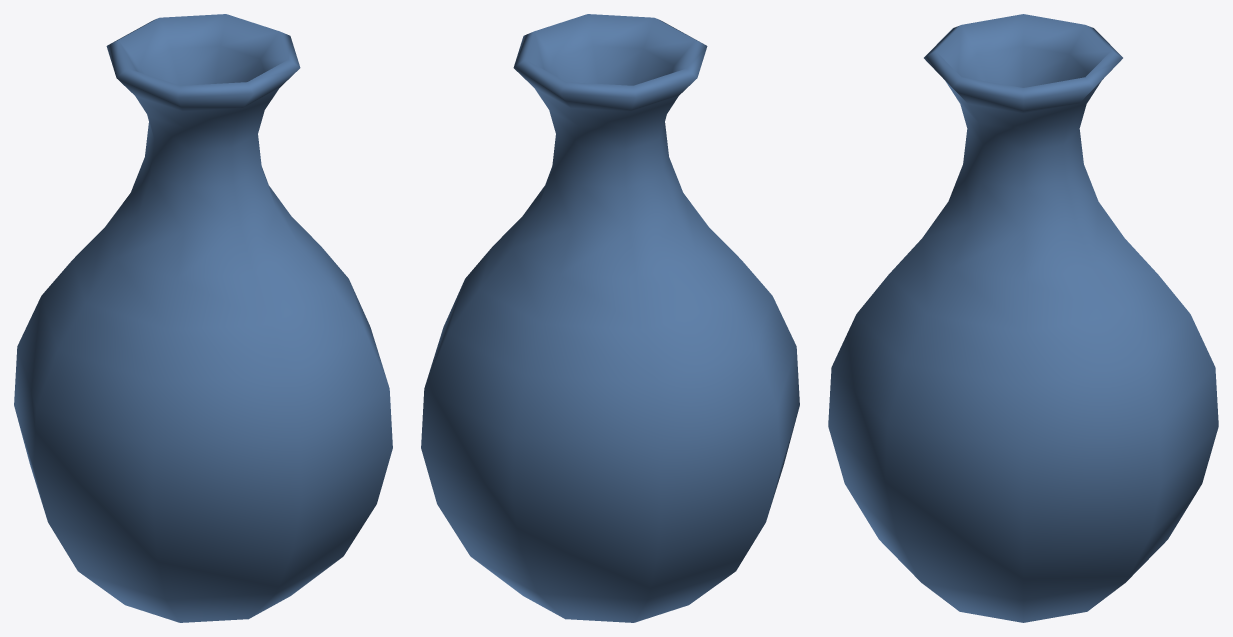
The model's file is Vase.FBX.
3 renders of one model, left to right at view 1: azimuth 30°, elevation 25°; view 2: azimuth 150°, elevation 25°; view 3: azimuth 270°, elevation 25°, orthographic.
Visible parts, largest first — view 1: Vase; view 2: Vase; view 3: Vase.
Boxes of the visible parts, x1=… form: Vase: x1=14, y1=14, x2=392, y2=622; Vase: x1=421, y1=14, x2=799, y2=622; Vase: x1=828, y1=14, x2=1218, y2=622.
Bounding box in the file's own units: 50.74 × 76.71 × 50.74.
1 material, 1 textured.
